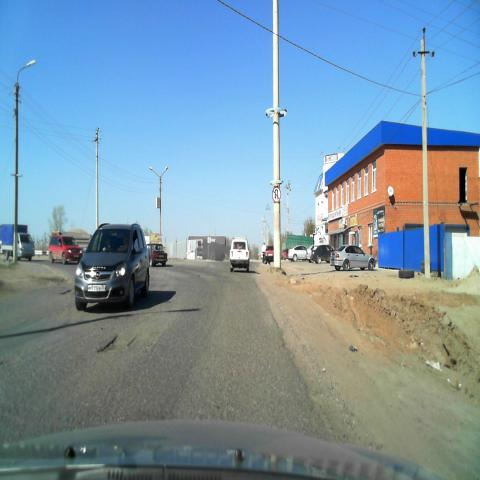3_19: (272, 186, 282, 204)
